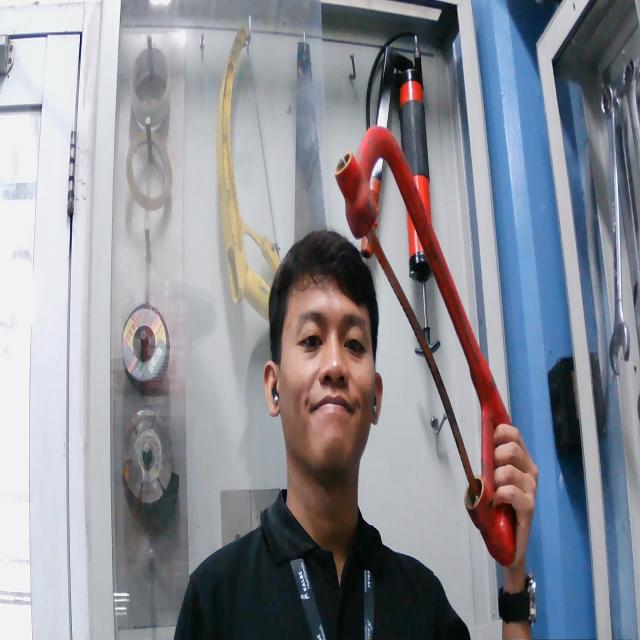gergaji_besi: (333, 123, 530, 569)
